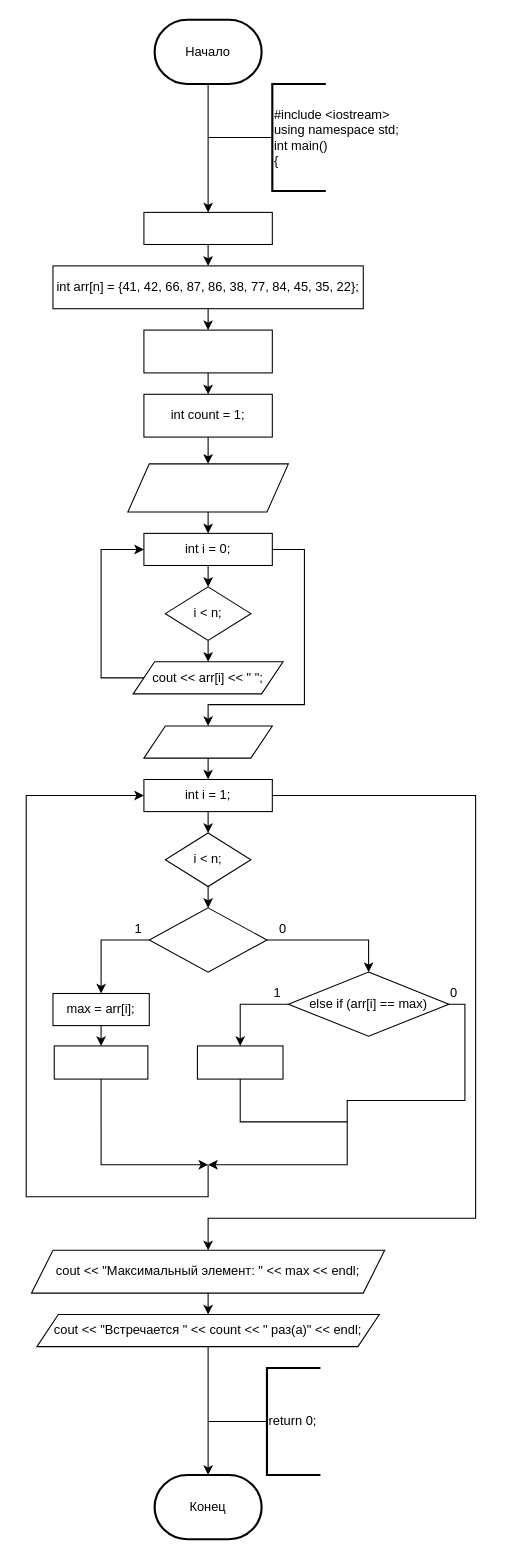
This 505x1558 diagram has some shape labels left out. Each missing label, with the centre of its shape:
const int n = 11;: (x=207, y=227)
count = 1;: (x=100, y=1062)
count++;: (x=239, y=1062)
cout << "Массив: ";: (x=207, y=487)
cout << endl;: (x=207, y=741)
if (arr[i] > max): (x=207, y=939)
int max = arr[0];: (x=207, y=351)
